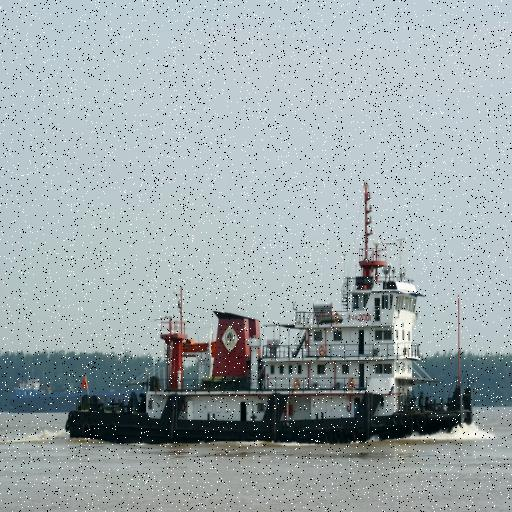tugboat: (64, 179, 477, 451)
